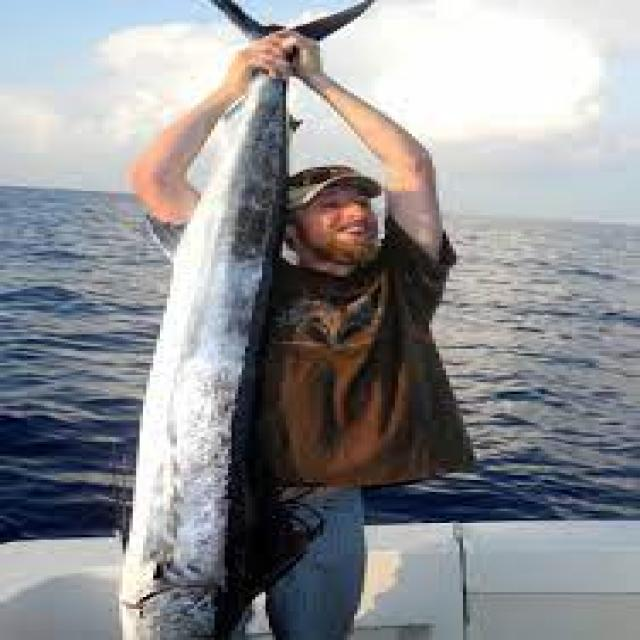Liberacion no segura: (112, 2, 378, 640)
